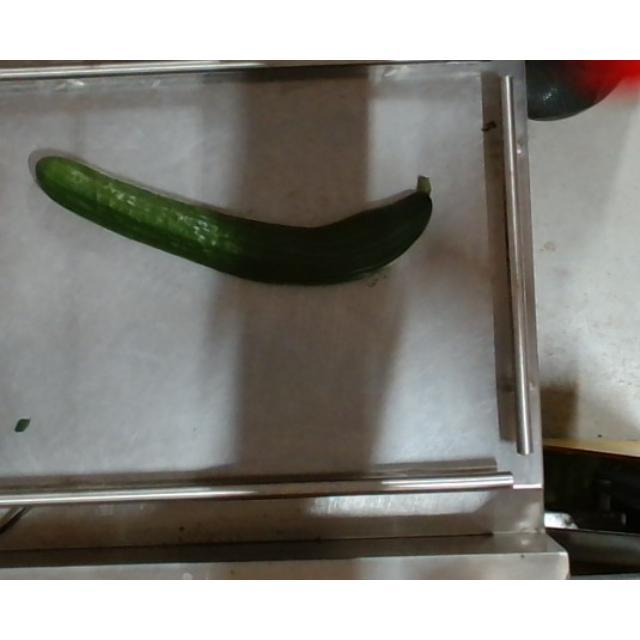cucumber: (35, 156, 435, 286)
